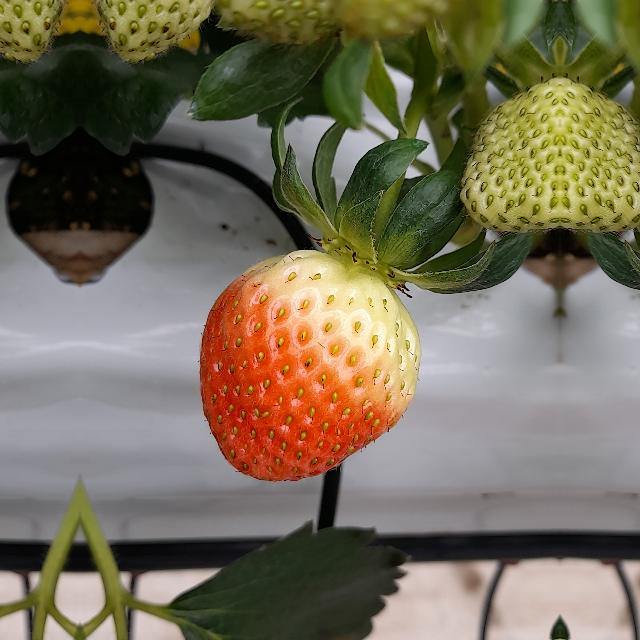Health_25: (459, 67, 559, 239), (561, 67, 640, 239)
Health_75: (199, 249, 421, 481)
